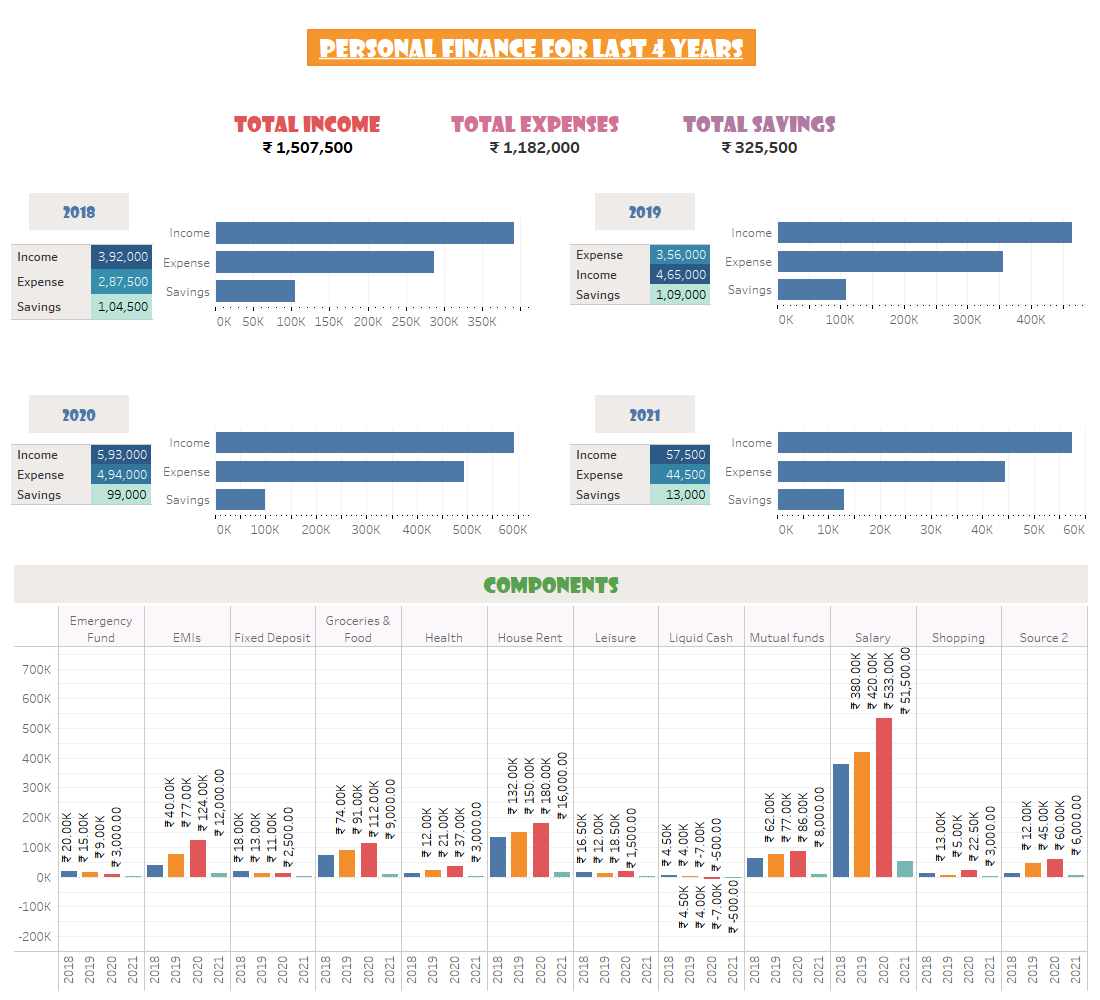

This screenshot's page, from the dashboard's own definition file:
{"tool":"tableau","page":{"name":"Personal Finance","canvas":[1100,1000],"ordinal":0},"visuals":[{"type":"text","box":[307,29,449,37]},{"type":"worksheet","title":"Total Income","mark":"Automatic","box":[218,100,179,68.8]},{"type":"worksheet","title":"Total Expenses","mark":"Automatic","box":[445,100,181,69]},{"type":"worksheet","title":"Total Savings","mark":"Automatic","box":[670,100,181,69]},{"type":"text","box":[29,192.5,100,37.5]},{"type":"text","box":[595,192.5,100,37.5]},{"type":"worksheet","title":"2018-Bar","mark":"Automatic","rows":["Type"],"cols":["Calculation_1242149078049488900"],"box":[163,217.5,366,116.2]},{"type":"worksheet","title":"2019-Bar","mark":"Automatic","rows":["Type"],"cols":["Calculation_1242149078047948801"],"box":[721,217.5,366,116.2]},{"type":"worksheet","title":"2018-Highlight","mark":"Square","rows":["Type"],"box":[11,243.8,142,76.2]},{"type":"worksheet","title":"2019-Highlight","mark":"Square","rows":["Type"],"box":[570,243.8,142,76.2]},{"type":"text","box":[29,395,100,37.5]},{"type":"text","box":[595,395,100,37.5]},{"type":"worksheet","title":"2020-Bar","mark":"Automatic","rows":["Type"],"cols":["Calculation_1242149078048722946"],"box":[163,427.5,366,116.2]},{"type":"worksheet","title":"2021-Bar ","mark":"Automatic","rows":["Type"],"cols":["Calculation_1242149078049214467"],"box":[721,427.5,366,116.2]},{"type":"worksheet","title":"2020-Highlight","mark":"Square","rows":["Type"],"box":[11,443.8,142,76.2]},{"type":"worksheet","title":"2021-Highlight","mark":"Square","rows":["Type"],"box":[570,443.8,142,76.2]},{"type":"worksheet","title":"Component","mark":"Automatic","cols":["Component"],"box":[14,565,1074,427]}]}

Visuals, with their boxes in screenshot pixels (x1, y1, x2, y2), scaled from the page's 1100x1000 canvas onto the 1100x1000 screenshot:
text: region(307, 29, 756, 66)
"Total Income" worksheet: region(218, 100, 397, 169)
"Total Expenses" worksheet: region(445, 100, 626, 169)
"Total Savings" worksheet: region(670, 100, 851, 169)
text: region(29, 192, 129, 230)
text: region(595, 192, 695, 230)
"2018-Bar" worksheet: region(163, 218, 529, 334)
"2019-Bar" worksheet: region(721, 218, 1087, 334)
"2018-Highlight" worksheet (Square marks): region(11, 244, 153, 320)
"2019-Highlight" worksheet (Square marks): region(570, 244, 712, 320)
text: region(29, 395, 129, 432)
text: region(595, 395, 695, 432)
"2020-Bar" worksheet: region(163, 428, 529, 544)
"2021-Bar " worksheet: region(721, 428, 1087, 544)
"2020-Highlight" worksheet (Square marks): region(11, 444, 153, 520)
"2021-Highlight" worksheet (Square marks): region(570, 444, 712, 520)
"Component" worksheet: region(14, 565, 1088, 992)
